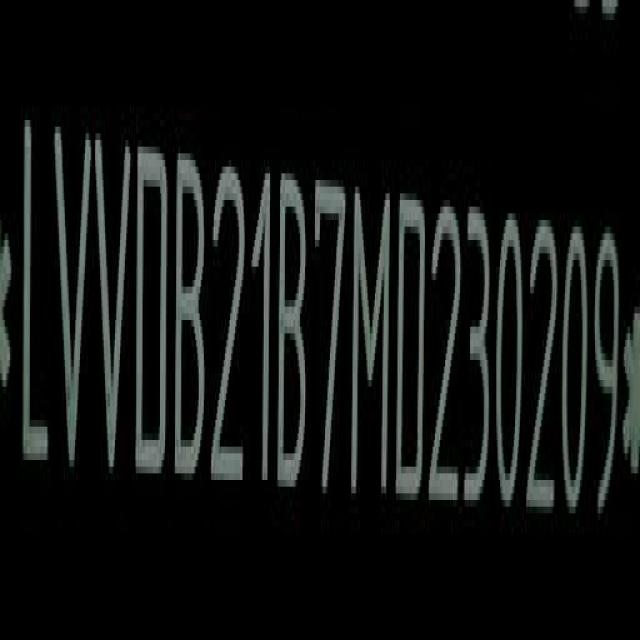0: (560, 224, 589, 516), (498, 216, 526, 514)
1: (252, 165, 274, 484)
2: (210, 156, 246, 480), (528, 220, 560, 516), (432, 196, 462, 509)
3: (464, 211, 494, 511)
7: (316, 173, 347, 489)
9: (594, 232, 622, 510)
B: (177, 152, 209, 478), (278, 169, 309, 485)
D: (134, 138, 168, 478), (396, 187, 428, 501)
L: (22, 115, 52, 472)
M: (356, 182, 395, 496)
V: (52, 123, 92, 474), (95, 127, 134, 478)
